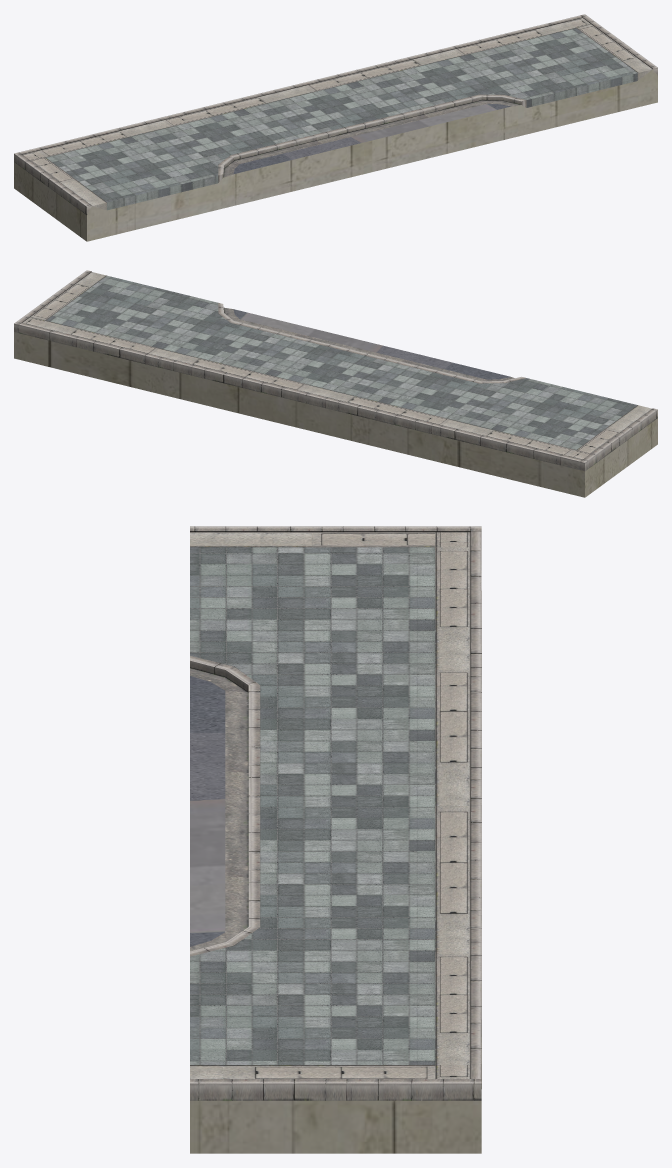
The model's file is road_b1_end.fbx.
3 views of the same model, one above another, from view 1: azimuth 30°, elevation 25°; view 2: azimuth 150°, elevation 25°; view 3: azimuth 270°, elevation 25° (orthographic). The views are drawn at different scales.
Visible parts, largest first — view 1: road_b1_end; view 2: road_b1_end; view 3: road_b1_end.
Boxes of the visible parts, x1,y1,x2,y2 form: road_b1_end: (14, 14, 657, 241); road_b1_end: (14, 270, 657, 497); road_b1_end: (190, 526, 481, 1153).
Bounding box in the file's own units: 1130 × 66 × 250.
